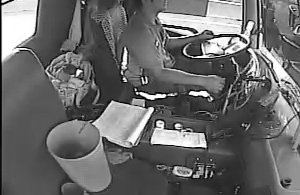cup: (154, 118, 165, 131)
